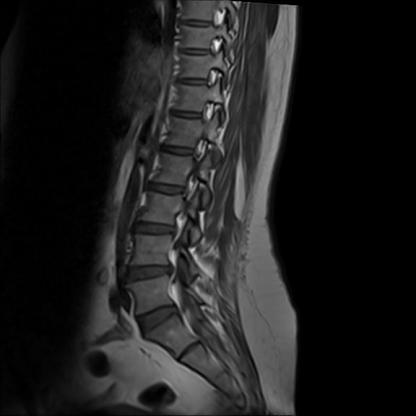Disc Bulgerotation: (138, 305, 181, 332), (129, 263, 173, 283), (135, 220, 177, 239)
